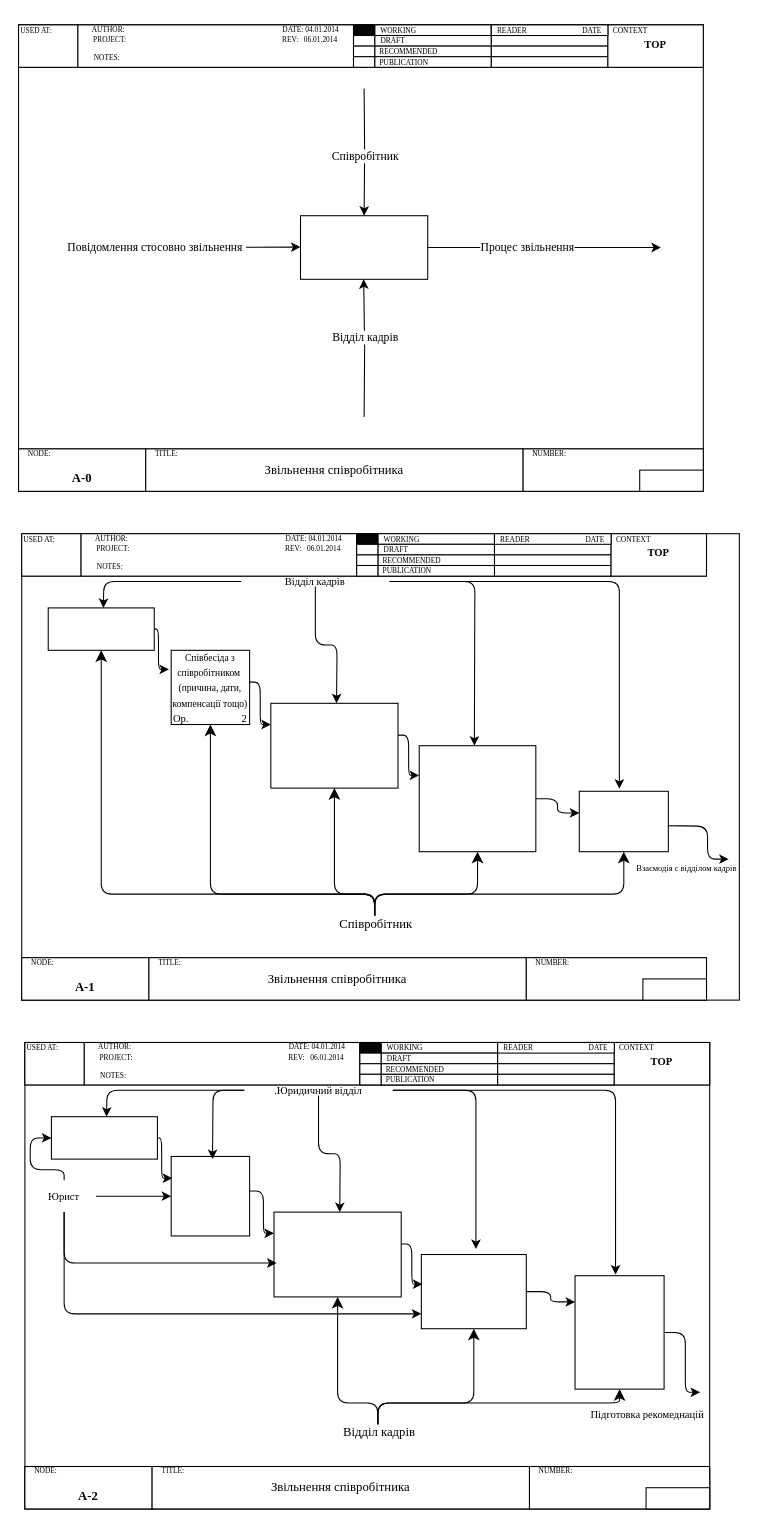
Image size: 758x1527. Some labels were removed from this diagram. Here are the shapes that lost their labels. From the top down, the centre of each, then its label:
At (363,247): "Звільнення співробітника A0".
At (100,628): "Збір інформації про звільнення Ор. 1".
At (334,745): "Зібрана інформація про причини звільнення, очікувані дати та умови відділу Ор. 3".
At (477,798): "Підготовка документів для відділу кадрів Ор. 4".
At (623,821): "Перевірка законності звільнення Ор. 5".
At (103,1137): "Перевірка законності звільнення Ор. 1".
At (210,1195): "Перевірка відповідності всіх законних вимог Ор. 2".
At (337,1254): "Вирішення правових питань, пов'язаних із звільненням Ор. 3".
At (473,1291): "Співпраця з юридичним відділом для узгодження документації та процедур Ор. 4".
At (619,1332): "Взаємодія з відділом кадрів для уточнення інформації та узгодження деталей Ор. 5".
